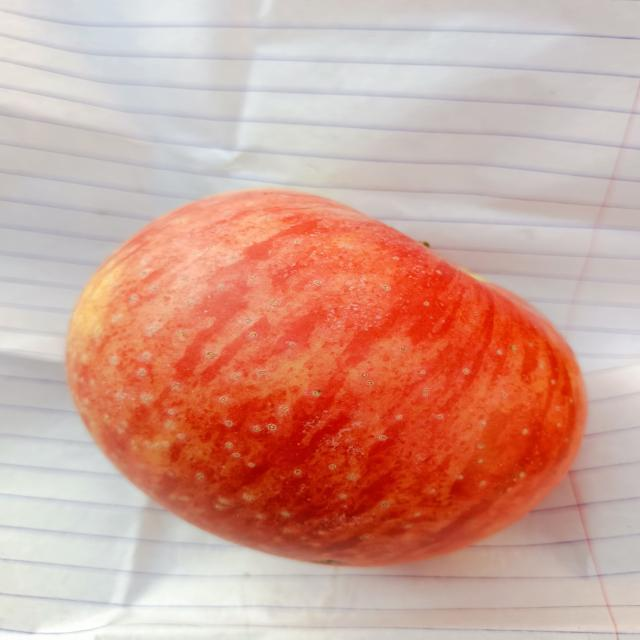Fresh Apple: (75, 195, 598, 618)
